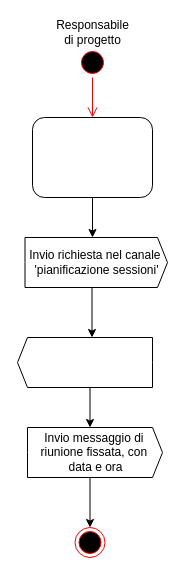
Some shapes in this 185 by 575 pixel diagram are drawn without their labels. The shapes that lost their labels are listed below. From the top down, each one's box as (x1, y1, x2, y2) in pixels, then its label:
(32, 116, 152, 198): Propone la data del prossimo incontro tramite canale Discord
(16, 336, 152, 388): Attende conferma di presenza da parte dei partecipanti
